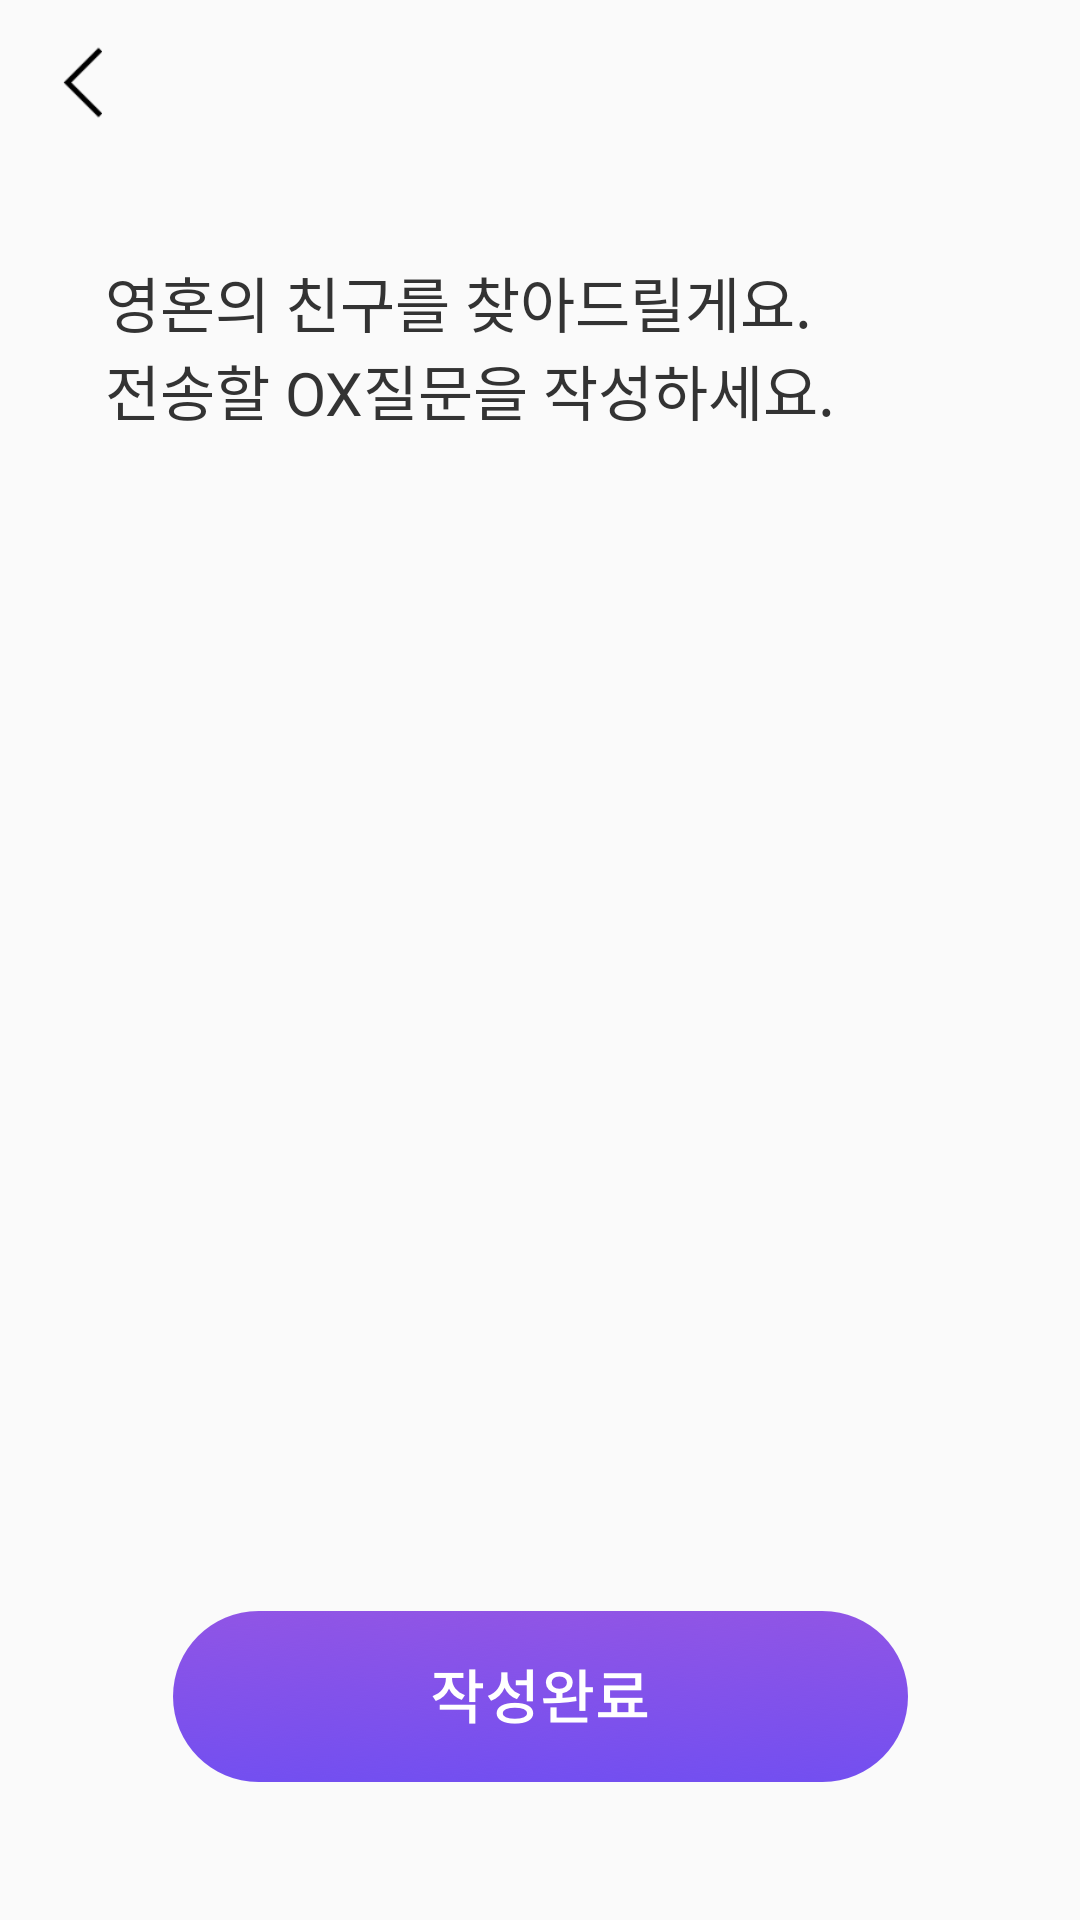

Icons on this 1080px×1920px Android screen, each with the point to tap as (x=x, y=y):
arrow: (x=82, y=82)
